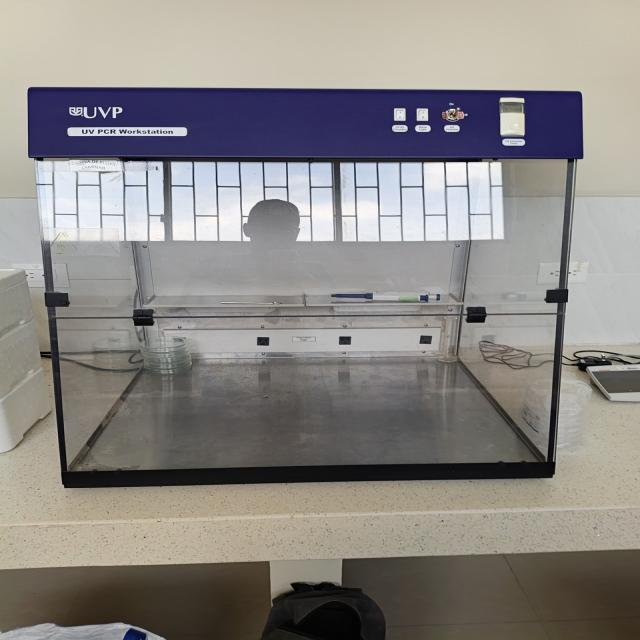Cabina de Flujo Laminar: (28, 80, 583, 487)
